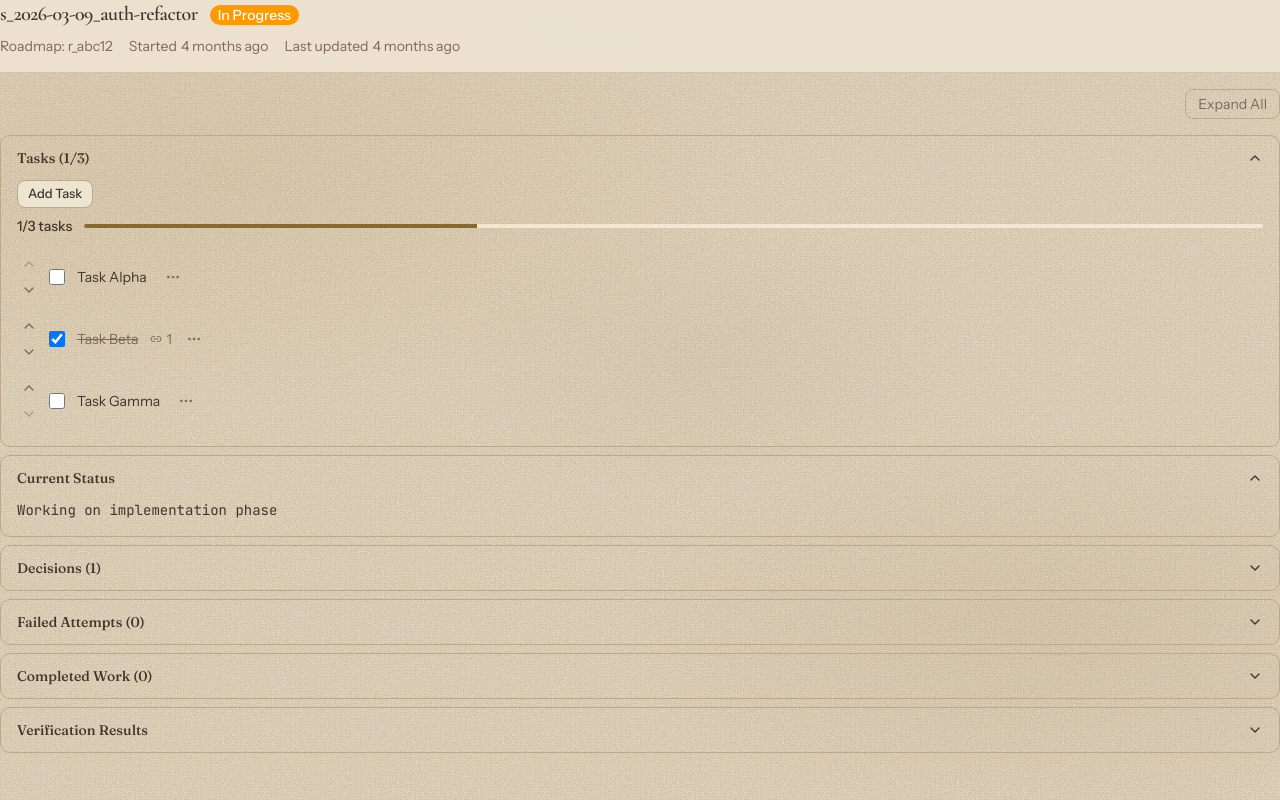
Test case: SessionView CRUD integration › delete task removes from list after confirmation
The width and height of the screenshot is (1280, 800).
Click the button named "task actions" next to "Task Alpha" at (173,277), box [159, 263, 187, 291]
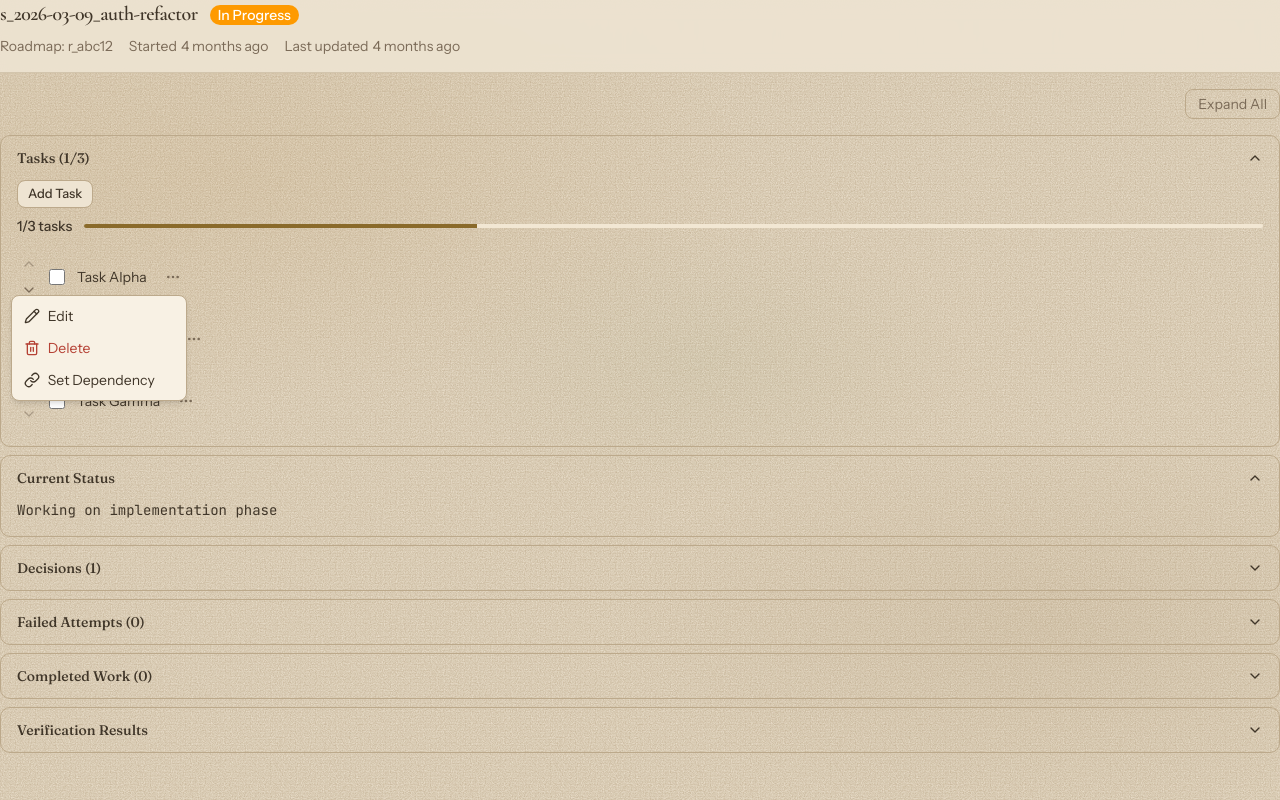
Click Delete in the menu
Click the menu item "Delete" at (99,348), box [16, 332, 182, 364]
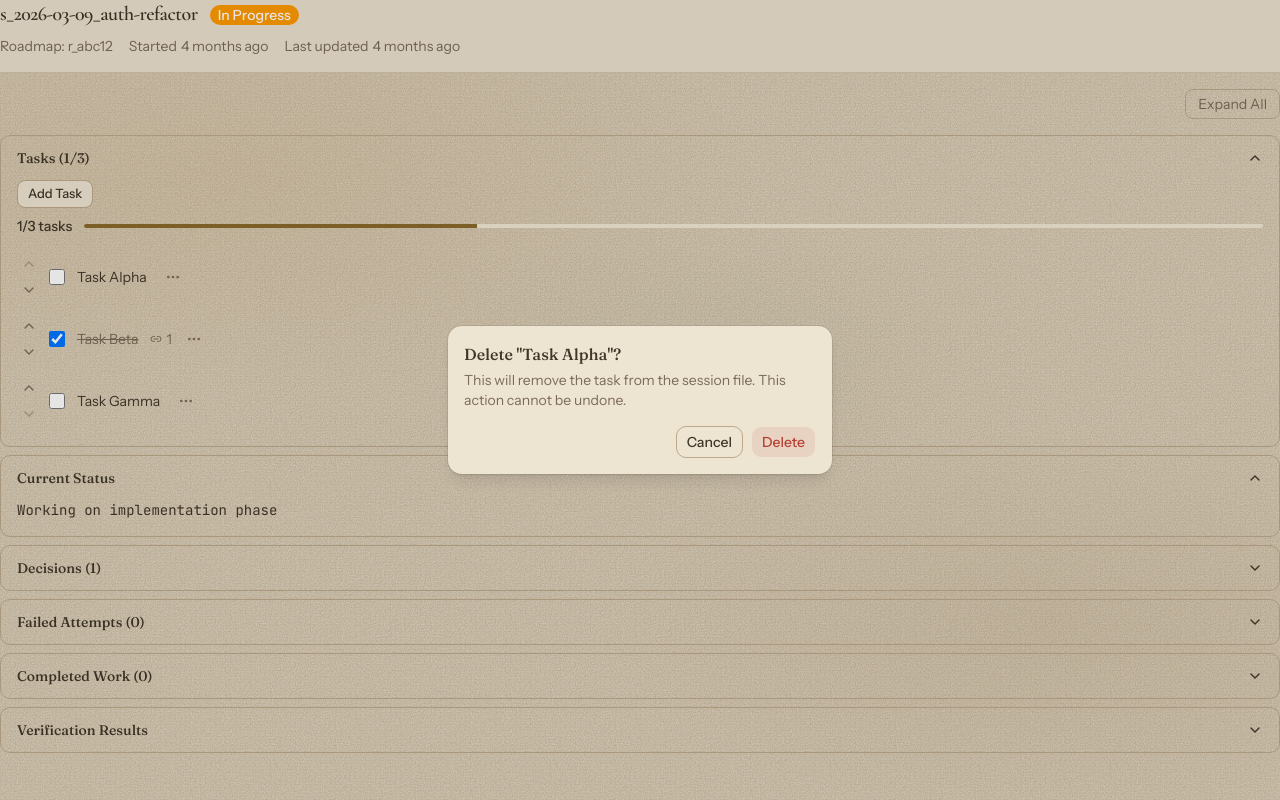
Expected: the dialog is shown
Click Delete to confirm
Click the button "Delete" at (784,442), box [751, 426, 816, 458]
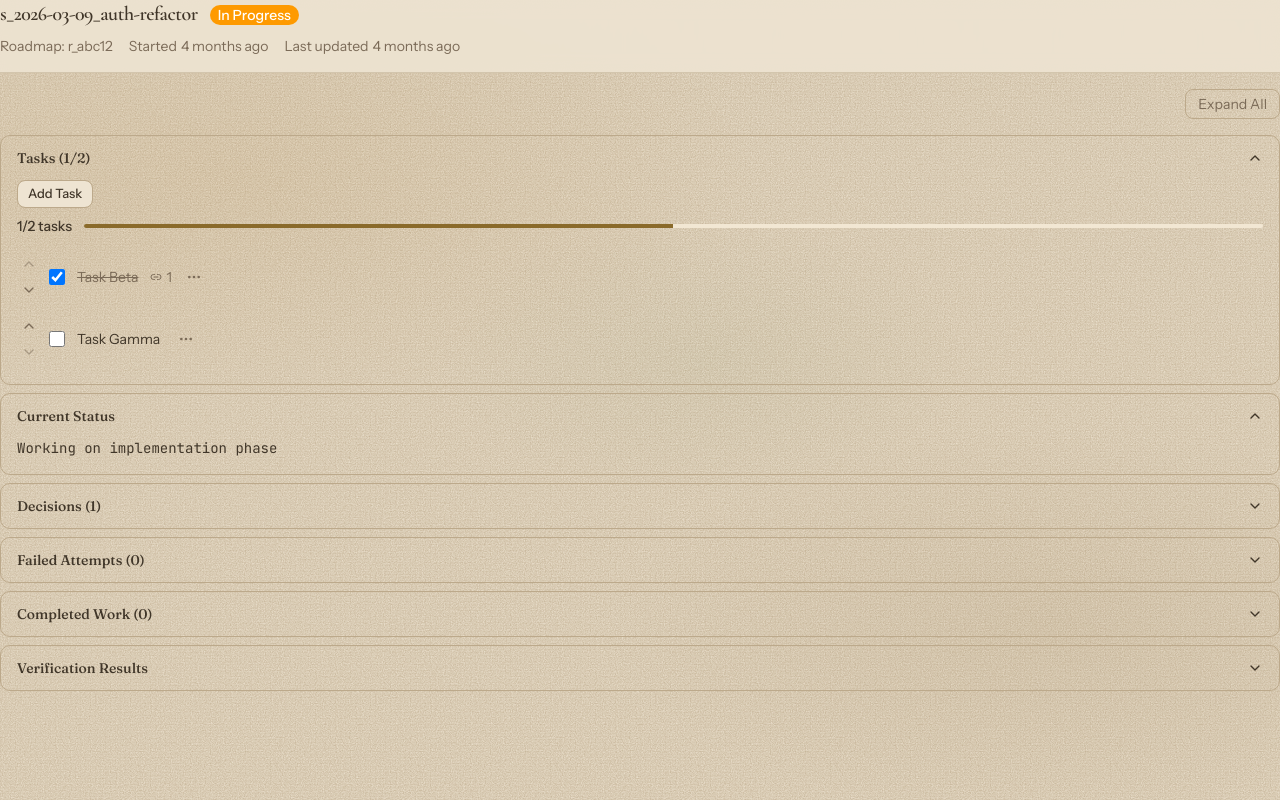
Expected: the text "Task Alpha" is gone
